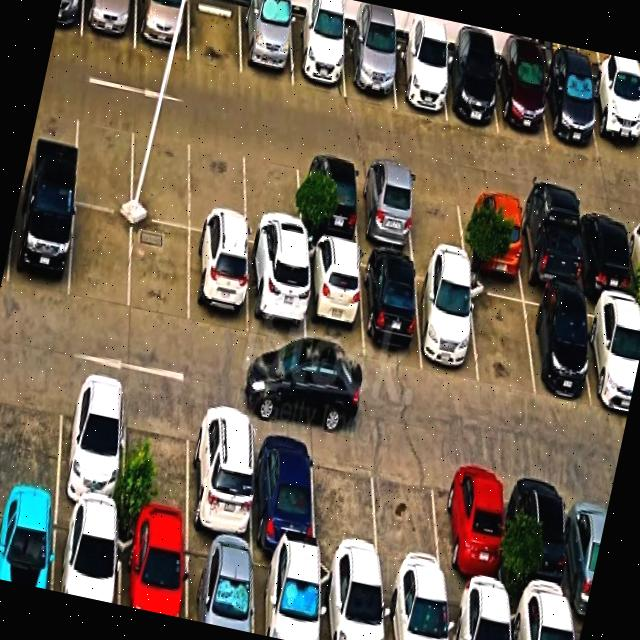empty: (374, 443, 444, 586), (122, 387, 190, 532), (314, 431, 379, 573), (0, 361, 63, 501), (469, 277, 534, 394), (131, 116, 192, 228), (69, 204, 132, 309), (74, 103, 133, 213), (130, 217, 189, 325), (244, 140, 300, 253), (189, 129, 245, 239), (407, 173, 466, 264), (188, 0, 241, 74)
occupied: (56, 372, 125, 517), (440, 454, 504, 599), (189, 402, 252, 546), (252, 415, 314, 556), (514, 468, 571, 610), (522, 287, 590, 400), (7, 186, 74, 298), (414, 263, 477, 382), (360, 252, 421, 366), (582, 294, 640, 410), (304, 241, 362, 357), (186, 534, 253, 633), (119, 521, 185, 618), (53, 506, 118, 604), (189, 230, 247, 335), (517, 196, 579, 292), (253, 549, 318, 640), (567, 479, 611, 613), (247, 244, 304, 347), (298, 152, 358, 246), (463, 185, 522, 278), (356, 163, 414, 255), (0, 495, 56, 590), (577, 206, 633, 297), (543, 66, 598, 157), (319, 562, 383, 640), (587, 79, 640, 167), (441, 50, 497, 133), (494, 57, 547, 144), (290, 14, 345, 97), (391, 39, 446, 120), (240, 2, 292, 86), (382, 578, 447, 640), (344, 29, 395, 106), (134, 0, 188, 60), (446, 588, 508, 640), (81, 0, 136, 48), (509, 600, 571, 640), (628, 215, 640, 296)
